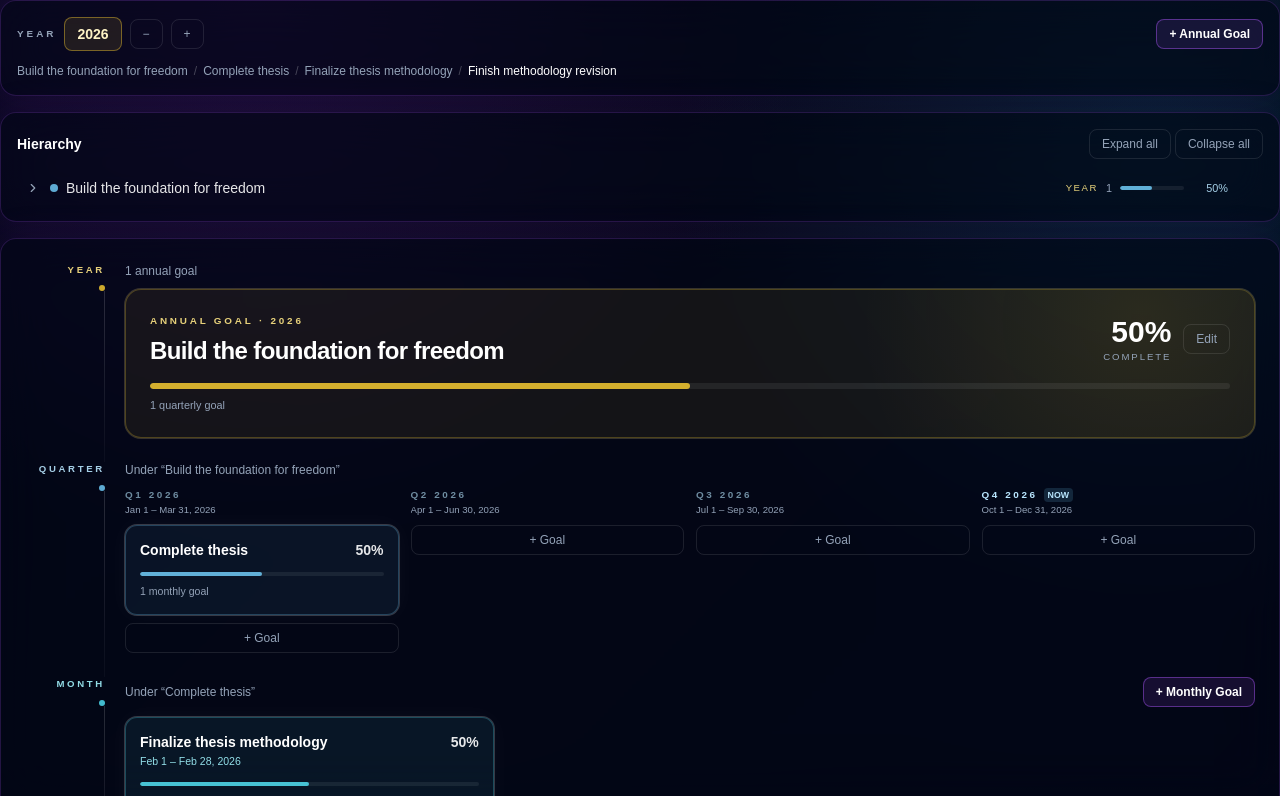
Test: GoalHierarchyView › keeps a year with no goals empty instead of falling back to another year's data
Expected: the element with test id "year-card-year-1" is shown, [125, 289, 1255, 438]
Click the button named "Next year" at (187, 34), box [171, 19, 204, 49]
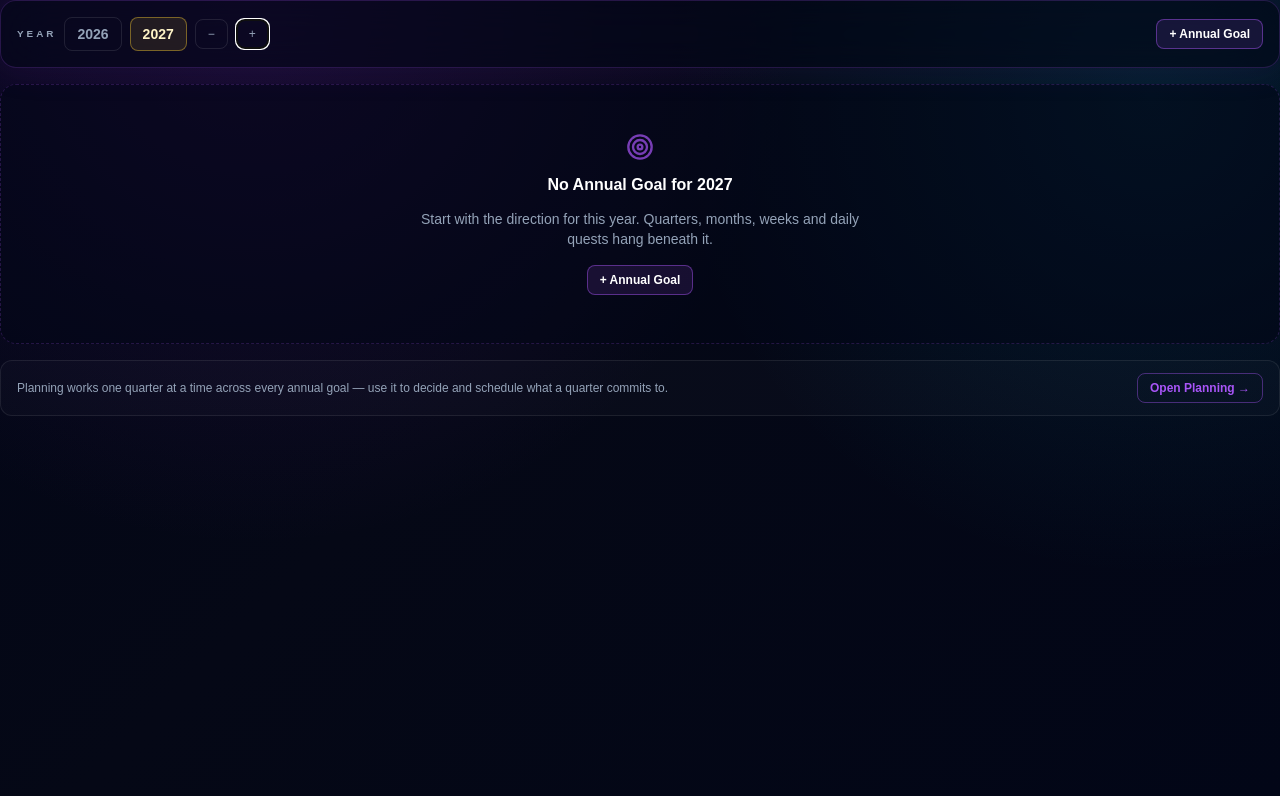
Expected: the element with test id "hierarchy-empty" is shown, [0, 84, 1279, 344]
